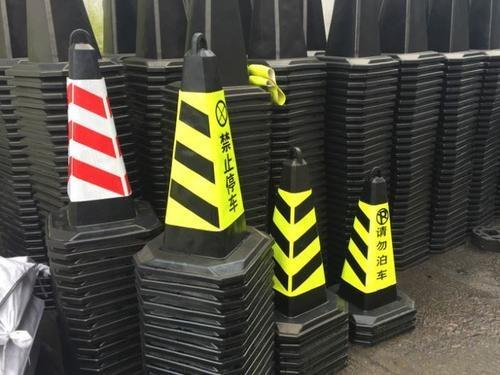cone_barrel: (145, 24, 254, 271), (50, 25, 146, 233), (261, 147, 336, 321), (333, 173, 409, 316)
